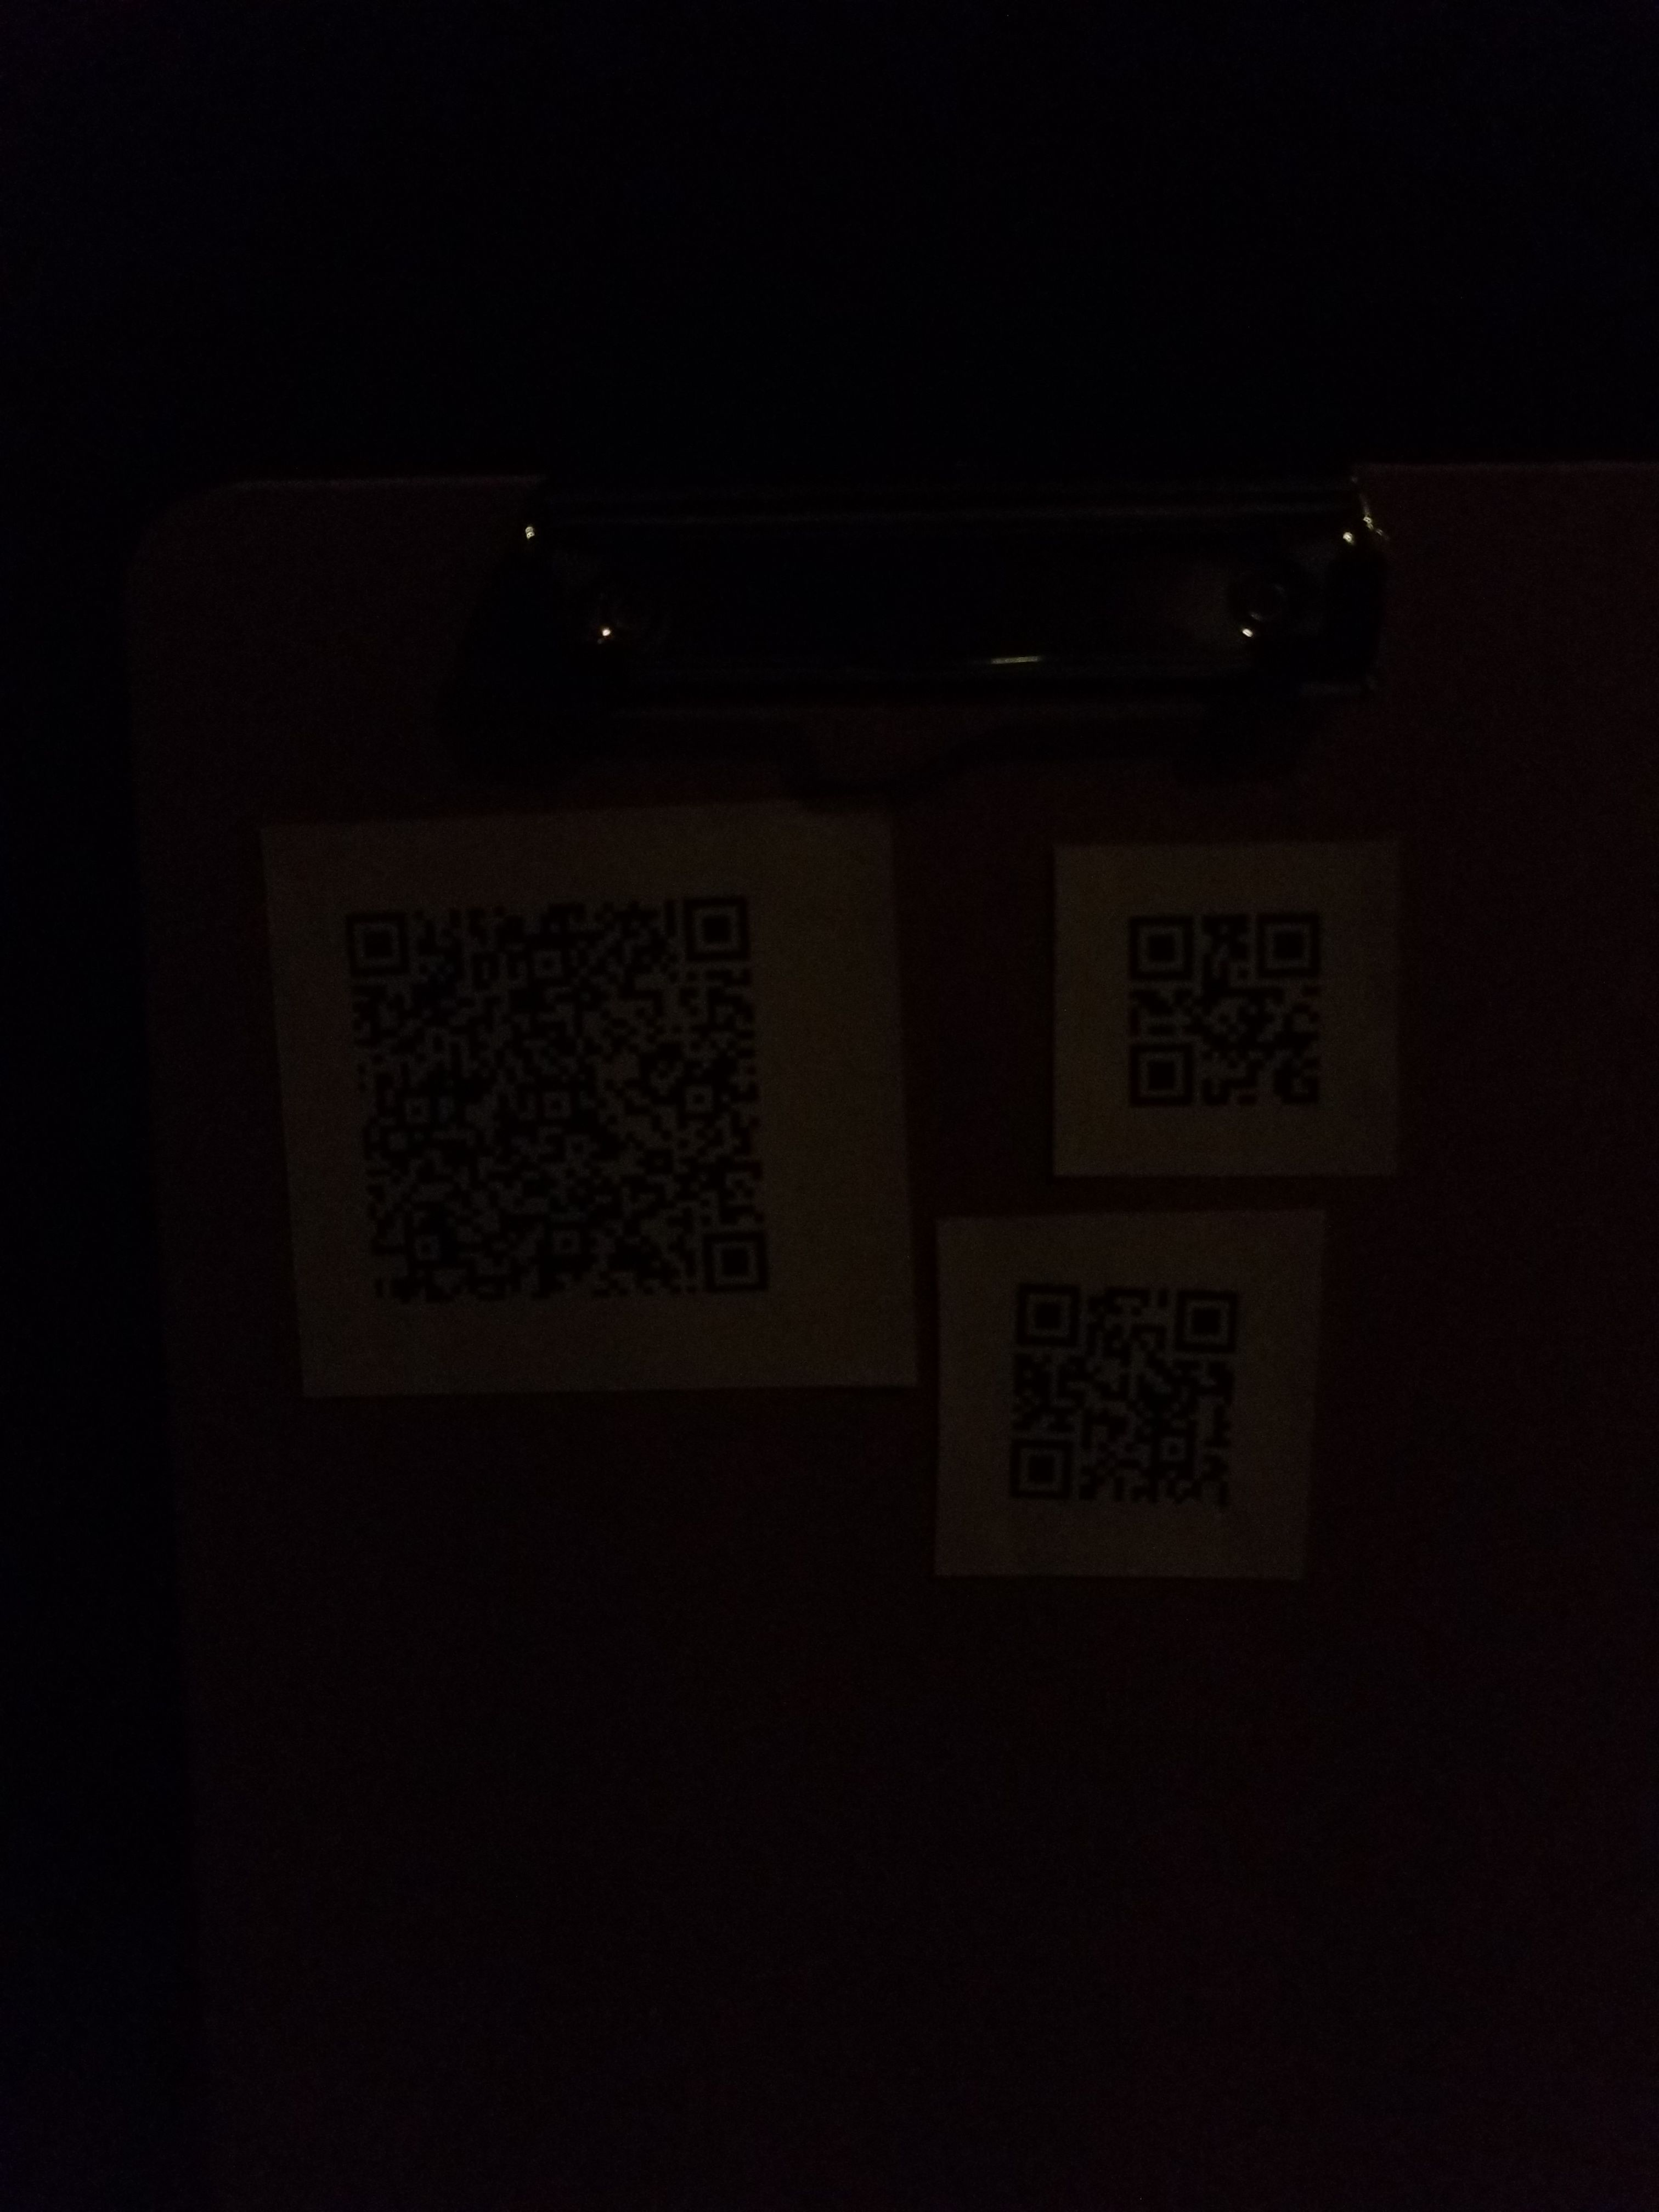QR_CODE: (295, 836, 807, 1336), (972, 1224, 1297, 1554), (1098, 867, 1361, 1151)
